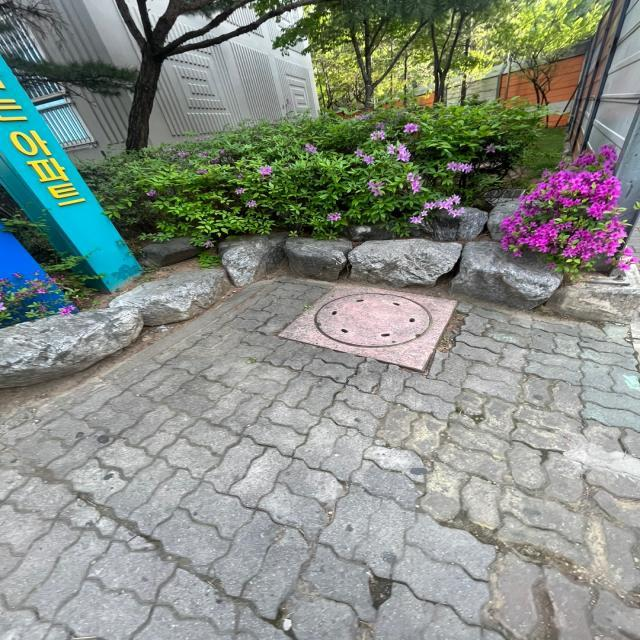Sewer Cover: (268, 279, 476, 388)
